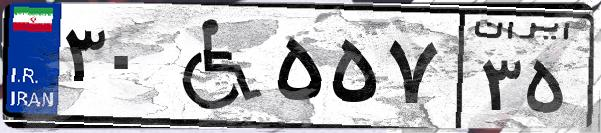0: (110, 28, 158, 98)
3: (57, 26, 110, 100), (475, 38, 525, 113)
5: (270, 28, 330, 110), (330, 28, 385, 110), (525, 38, 570, 115)
7: (385, 28, 445, 110)
ژ (معلولین و جانبازان): (158, 12, 270, 120)
